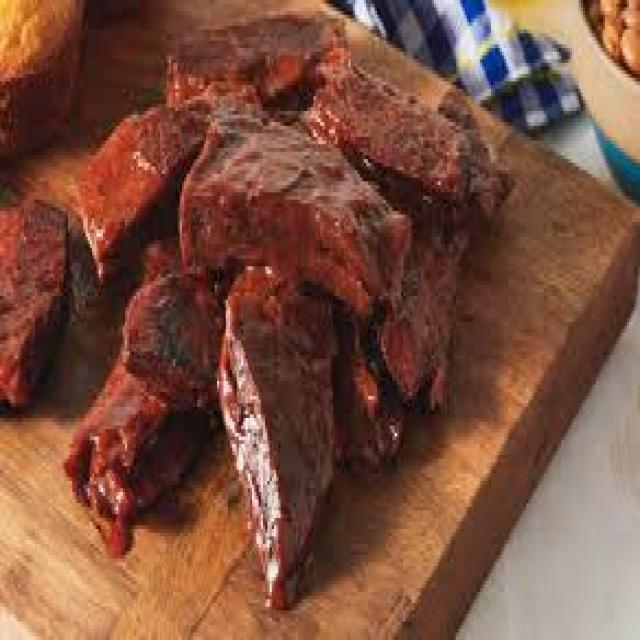Organik: (2, 0, 550, 616)
